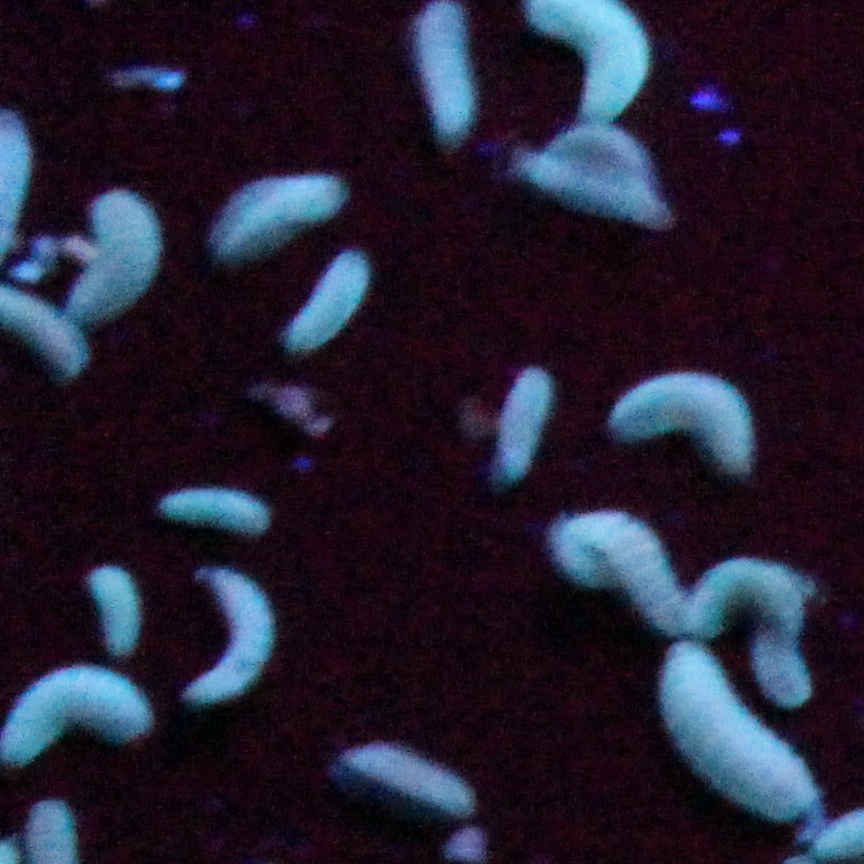larve: (634, 636, 822, 840), (539, 504, 699, 642), (598, 356, 766, 484), (5, 670, 168, 776), (749, 556, 843, 725), (191, 165, 351, 262), (526, 1, 651, 122), (191, 556, 282, 713), (405, 2, 494, 153), (509, 151, 671, 232), (73, 181, 162, 328), (471, 356, 562, 493), (338, 740, 482, 820), (278, 248, 378, 360), (68, 562, 168, 670), (151, 479, 294, 550), (547, 129, 651, 178)
